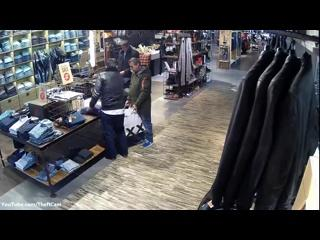Normal: (116, 39, 140, 88)
shoplifting: (87, 58, 129, 160), (125, 57, 154, 148)
